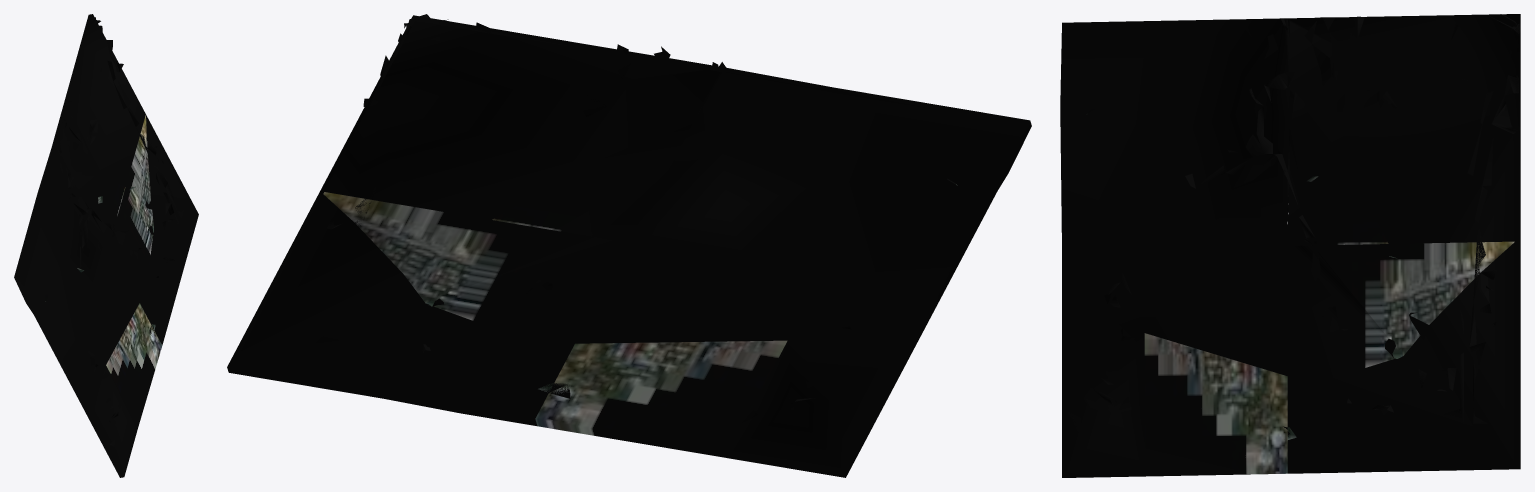
3 views of the same model, side by side, from view 1: azimuth 30°, elevation 25°; view 2: azimuth 150°, elevation 25°; view 3: azimuth 270°, elevation 25° (orthographic). The views are drawn at different scales.
Visible parts, largest first — view 1: node_30436272704362_mesh0; view 2: node_30436272704362_mesh0; view 3: node_30436272704362_mesh0.
Part boxes in pixels (box(x1,y1,x2,y2)): node_30436272704362_mesh0: box(14, 14, 198, 477); node_30436272704362_mesh0: box(227, 14, 1031, 477); node_30436272704362_mesh0: box(1060, 14, 1520, 477).
Bounding box in the file's own units: 2331 × 2334 × 1766.
1 material, 1 textured.
